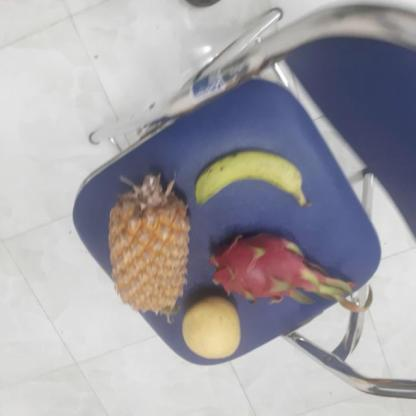annona: (112, 177, 195, 315)
banana: (197, 149, 305, 208)
pear: (182, 297, 244, 359)
pitaya: (212, 230, 324, 303)
